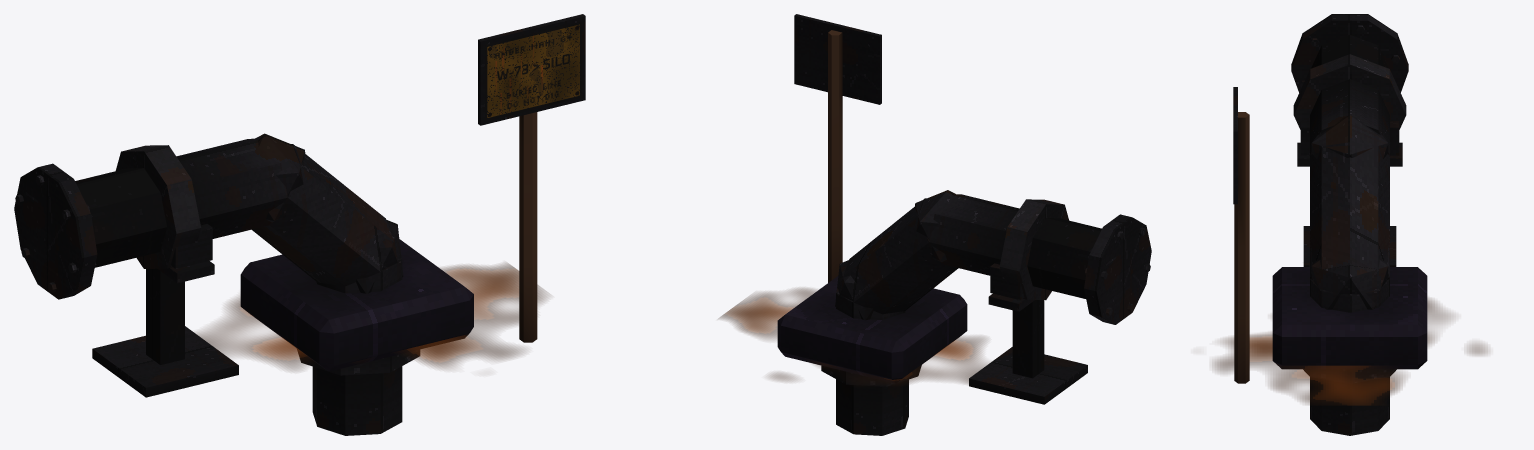
File: pipe_riser.glb
The picture shows the model from 3 angles, left to right: view 1: azimuth 30°, elevation 25°; view 2: azimuth 150°, elevation 25°; view 3: azimuth 270°, elevation 25°; orthographic projection. The views are drawn at different scales.
Parts seen in each view (by area): view 1: body, decals; view 2: body, decals; view 3: body, decals.
Part boxes in pixels (<box>): body: <box>14,14,585,435</box>; decals: <box>196,21,582,371</box>; body: <box>777,14,1151,435</box>; decals: <box>718,288,988,384</box>; body: <box>1233,14,1427,435</box>; decals: <box>1212,298,1487,405</box>.
Size of what is drawn, in the model's own units: 1.56 by 1.27 by 1.1.
Materials: 6 (5 with a texture image).
